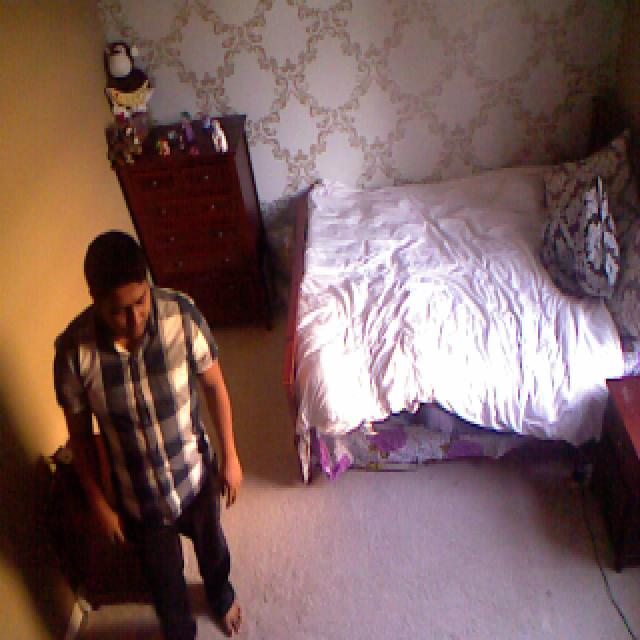standing: (52, 242, 266, 640)
